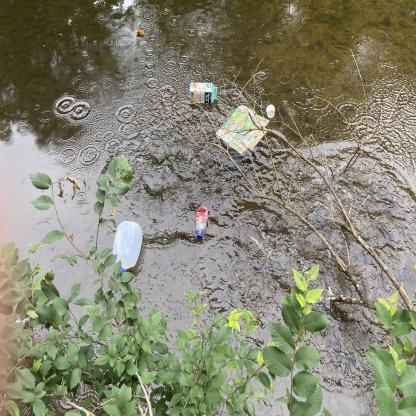trash: (216, 101, 272, 160), (110, 219, 145, 276), (186, 80, 220, 105), (192, 202, 209, 240), (263, 102, 278, 120)
